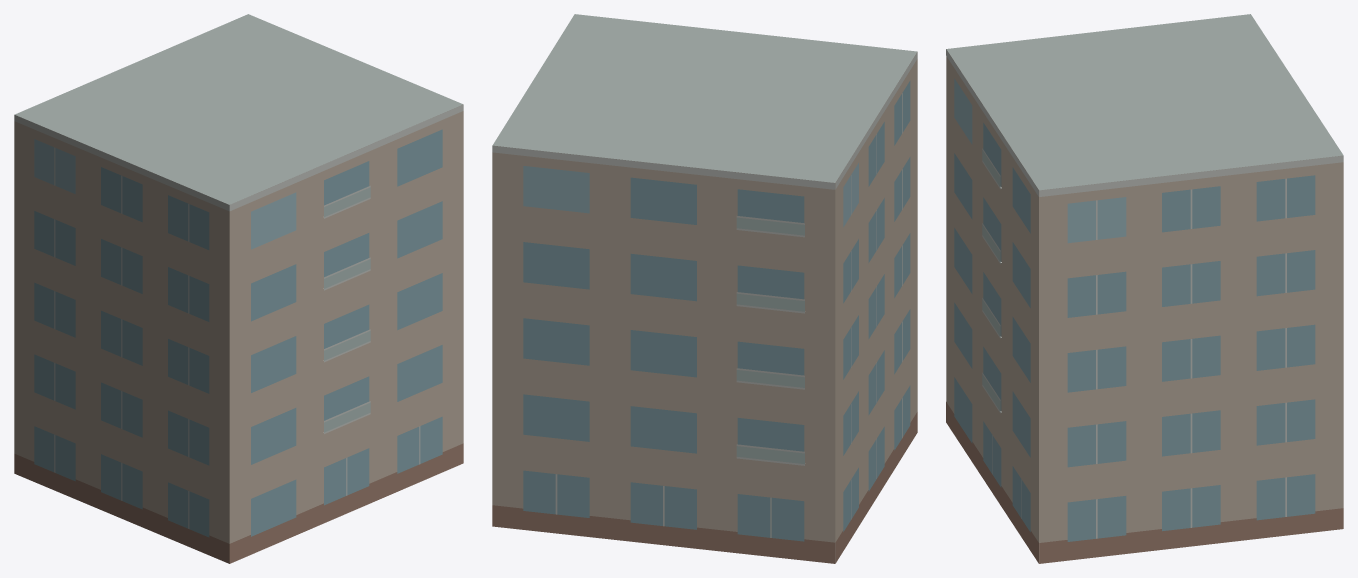
Rendered from survey-upis-32710431.glb.
3 views of the same model, side by side, from view 1: azimuth 30°, elevation 25°; view 2: azimuth 150°, elevation 25°; view 3: azimuth 270°, elevation 25° (orthographic). The views are drawn at different scales.
Visible parts, largest first — view 1: survey-upis-32710431.tmp; view 2: survey-upis-32710431.tmp; view 3: survey-upis-32710431.tmp.
Part boxes in pixels (x1,y1,x2,y2): survey-upis-32710431.tmp: (14,14,463,563); survey-upis-32710431.tmp: (492,14,917,563); survey-upis-32710431.tmp: (946,14,1343,563).
Bounding box in the file's own units: 13.68 × 13.5 × 13.03.
